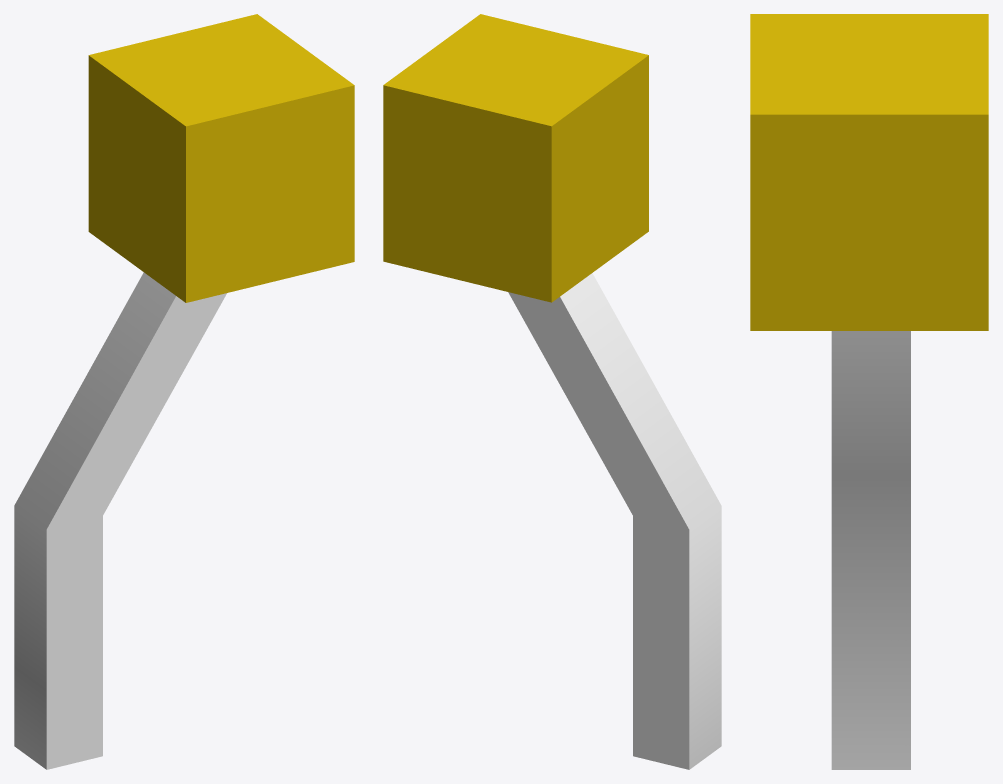
File: Antenna.obj
The picture shows the model from 3 angles, left to right: view 1: azimuth 30°, elevation 25°; view 2: azimuth 150°, elevation 25°; view 3: azimuth 270°, elevation 25°; orthographic projection. The views are drawn at different scales.
Parts seen in each view (by area): view 1: Cube.1, Cube; view 2: Cube.1, Cube; view 3: Cube.1, Cube.
Part boxes in pixels (<box>): Cube.1: <box>88,14,354,302</box>; Cube: <box>14,272,226,769</box>; Cube.1: <box>383,14,648,302</box>; Cube: <box>508,273,721,769</box>; Cube.1: <box>750,14,988,330</box>; Cube: <box>831,331,910,769</box>.
Size of the model in its own units: 977 by 2181 by 600.
